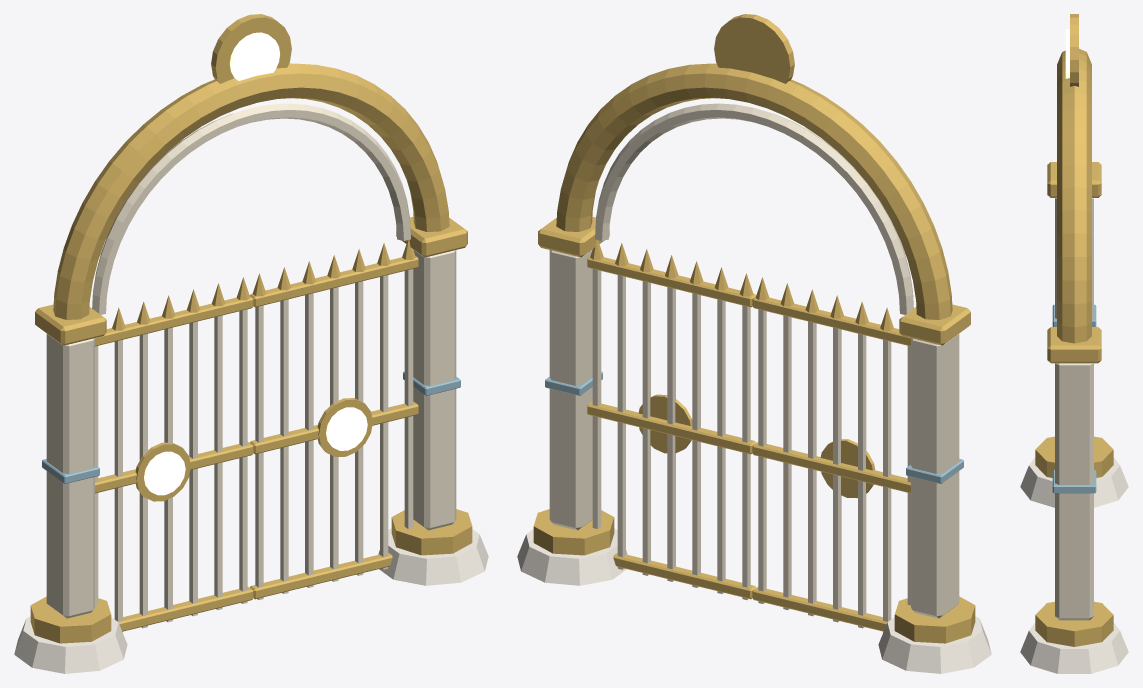
Rendered from portal.glb.
3 views of the same model, side by side, from view 1: azimuth 30°, elevation 25°; view 2: azimuth 150°, elevation 25°; view 3: azimuth 270°, elevation 25° (orthographic). The views are drawn at different scales.
Visible parts, largest first — view 1: portal_arch, portal_left_leaf, portal_right_leaf, portal_pillar_l, portal_pillar_r; view 2: portal_arch, portal_left_leaf, portal_right_leaf, portal_pillar_l, portal_pillar_r; view 3: portal_pillar_r, portal_arch, portal_pillar_l.
Part boxes in pixels (x1,y1,x2,y2): portal_arch: [53, 14, 449, 319]; portal_left_leaf: [249, 240, 418, 599]; portal_right_leaf: [95, 277, 253, 632]; portal_pillar_l: [14, 304, 127, 673]; portal_pillar_r: [378, 216, 488, 585]; portal_arch: [556, 14, 952, 319]; portal_left_leaf: [587, 240, 756, 599]; portal_right_leaf: [752, 277, 910, 632]; portal_pillar_l: [878, 304, 991, 673]; portal_pillar_r: [517, 216, 627, 585]; portal_pillar_r: [1020, 327, 1128, 673]; portal_arch: [1057, 14, 1091, 343]; portal_pillar_l: [1020, 162, 1128, 507].
Size of the model in its own units: 4.55 by 5.61 by 1.
